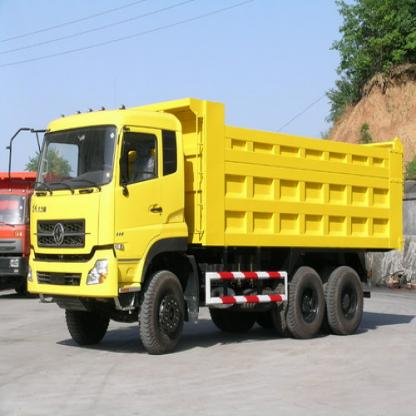truck: (8, 94, 405, 352)
